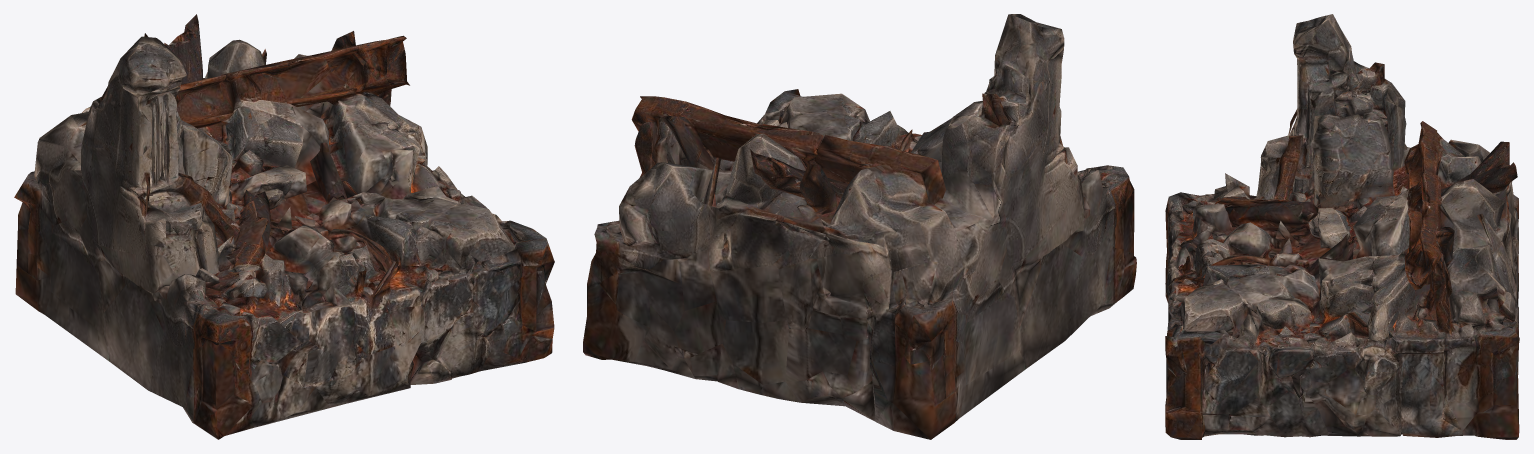
File: rubble.approved.glb
3 renders of one model, left to right at view 1: azimuth 30°, elevation 25°; view 2: azimuth 150°, elevation 25°; view 3: azimuth 270°, elevation 25°, orthographic. The views are drawn at different scales.
Bounding box in the file's own units: 1.87 × 1.69 × 1.87.
1 material, 1 textured.
